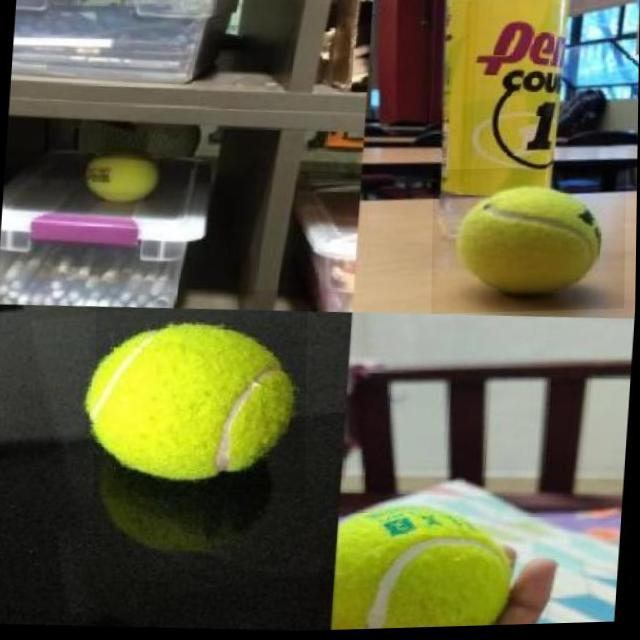-: (95, 290, 308, 500), (432, 168, 627, 316)
